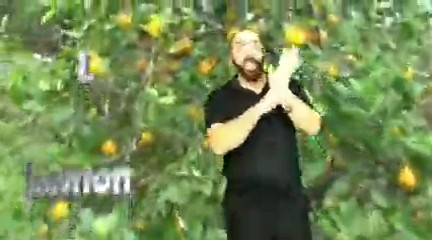L: (265, 43, 303, 111)
